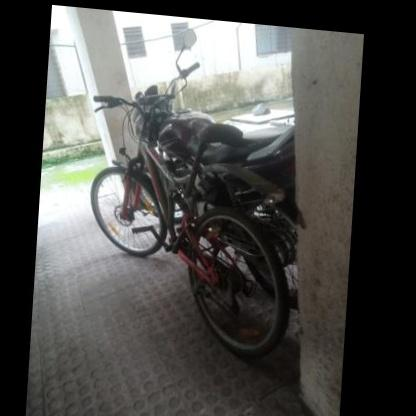Bicycle: (76, 89, 297, 365)
